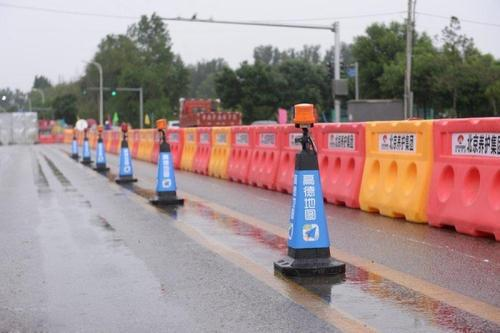cone_barrel: (278, 138, 343, 276), (150, 134, 180, 202), (115, 135, 134, 183), (93, 136, 108, 170), (79, 137, 92, 162), (69, 137, 78, 156)
